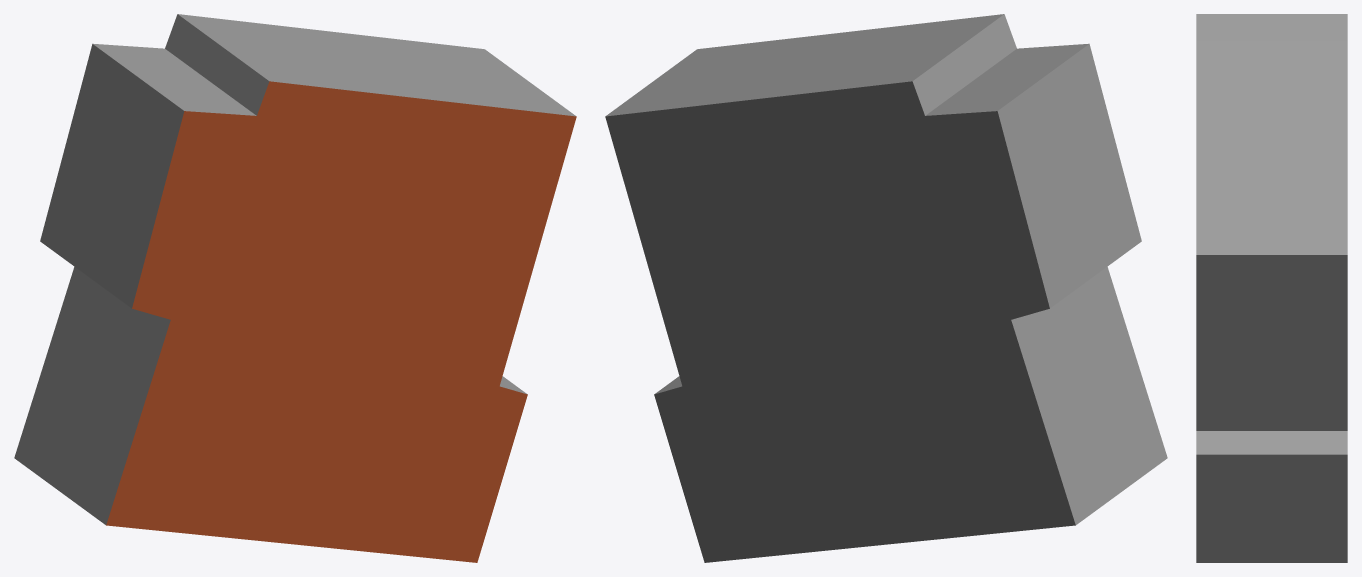
Rendered from construction_0450_assumed_A_Casa_h6m.obj.
3 renders of one model, left to right at view 1: azimuth 30°, elevation 25°; view 2: azimuth 150°, elevation 25°; view 3: azimuth 270°, elevation 25°, orthographic. The views are drawn at different scales.
Parts seen in each view (by area): view 1: construction_0450_assumed_A_Casa; view 2: construction_0450_assumed_A_Casa; view 3: construction_0450_assumed_A_Casa.
Boxes of the visible parts, x1=… form: construction_0450_assumed_A_Casa: x1=14, y1=14, x2=576, y2=562; construction_0450_assumed_A_Casa: x1=605, y1=14, x2=1167, y2=562; construction_0450_assumed_A_Casa: x1=1196, y1=14, x2=1347, y2=562.
Size of the model in its own units: 17.73 by 19.17 by 6.
